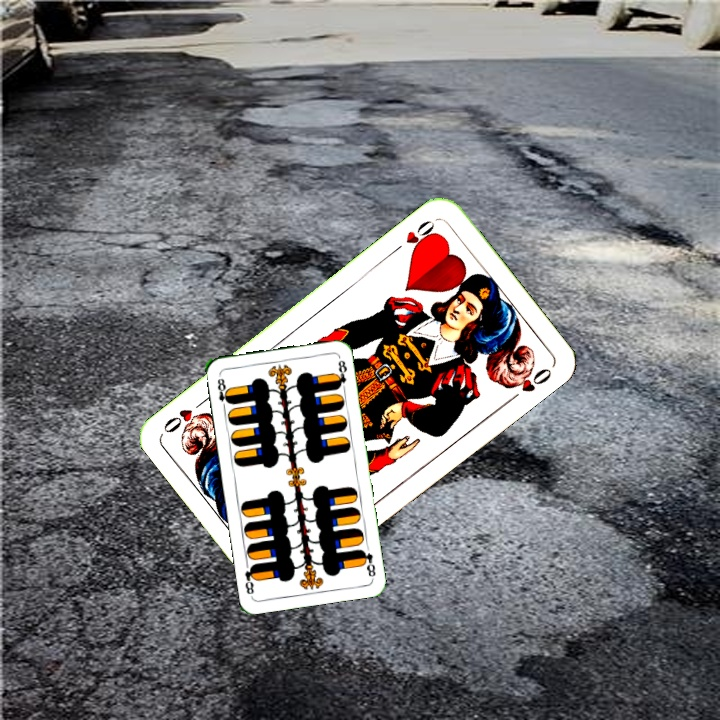E8: (213, 374, 233, 412), (357, 545, 378, 581)
HO: (388, 215, 440, 256)
